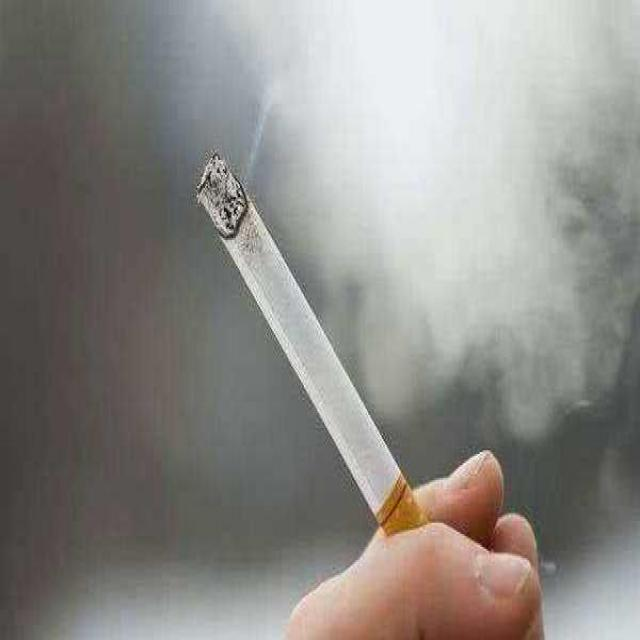cigarette: (193, 147, 416, 528)
